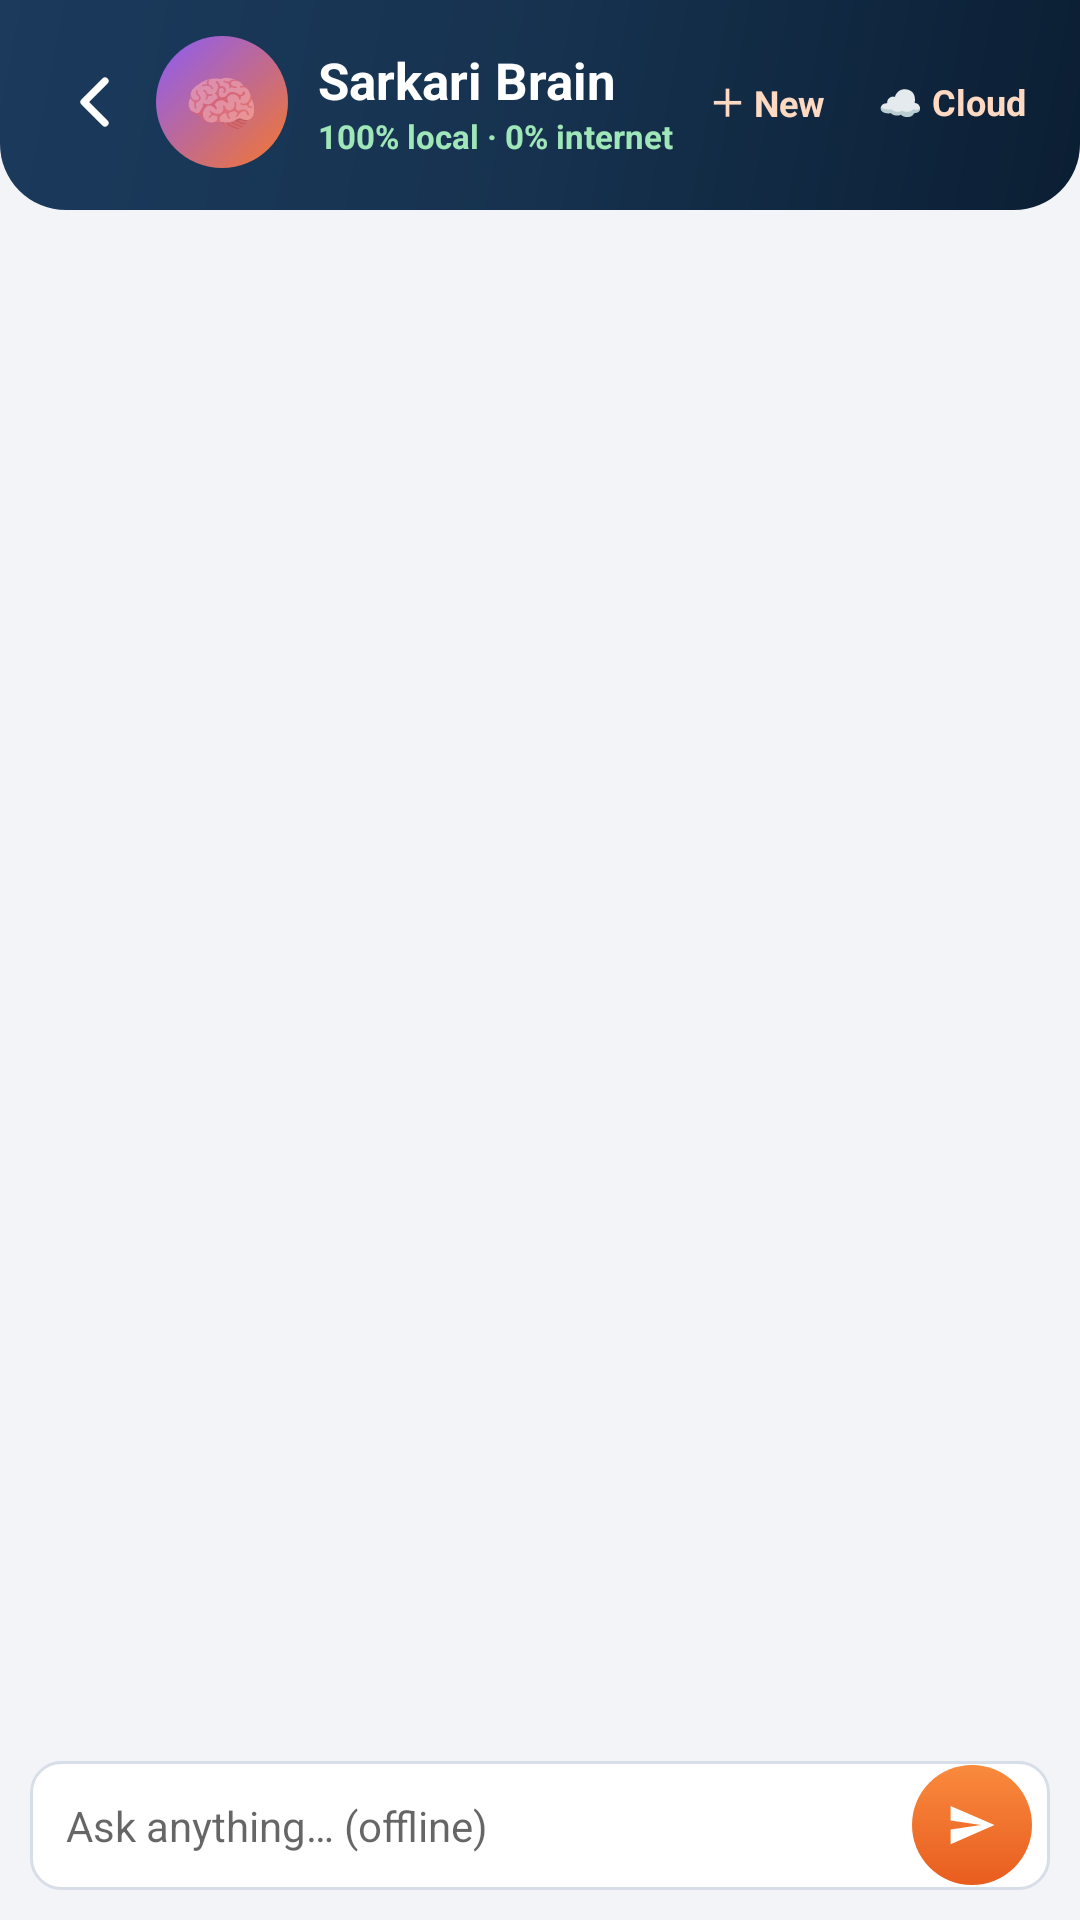

Screen size 1080×1920. Icon name, then its center in pixels as (x=x, y=y):
Back: (x=94, y=102)
send: (x=972, y=1829)
